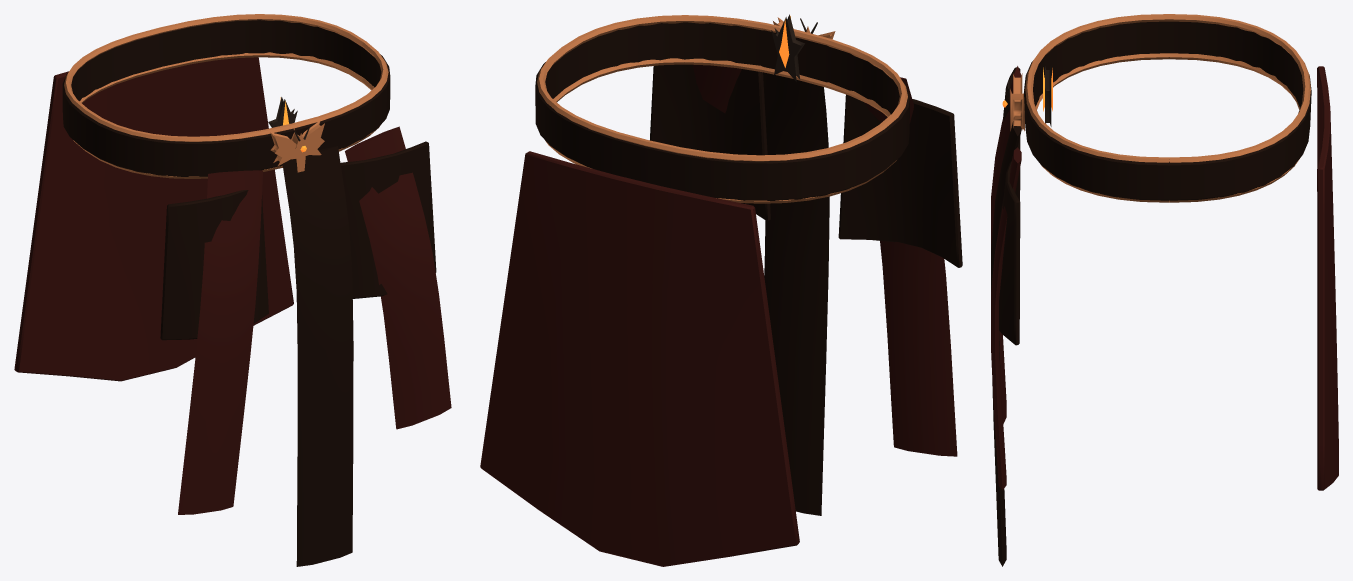
Rendered from asc_elder_wyrm_talon_inner.glb.
3 views of the same model, side by side, from view 1: azimuth 30°, elevation 25°; view 2: azimuth 150°, elevation 25°; view 3: azimuth 270°, elevation 25° (orthographic). The views are drawn at different scales.
Visible parts, largest first — view 1: asc_elder_wyrm_talon_inner, AT_thigh_R, AT_thigh_L; view 2: asc_elder_wyrm_talon_inner, AT_thigh_R, AT_thigh_L; view 3: asc_elder_wyrm_talon_inner, AT_thigh_L.
Part boxes in pixels (x1,y1,x2,y2): asc_elder_wyrm_talon_inner: (14,14,451,566); AT_thigh_R: (160,190,268,340); AT_thigh_L: (340,141,436,298); asc_elder_wyrm_talon_inner: (480,14,957,566); AT_thigh_R: (838,94,962,267); AT_thigh_L: (650,64,771,221); asc_elder_wyrm_talon_inner: (991,14,1338,566); AT_thigh_L: (999,160,1020,345).
Bounding box in the file's own units: 0.4686 × 0.6963 × 0.4593.
